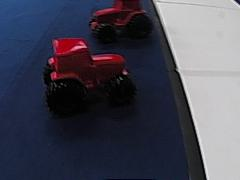Tracktor: (41, 34, 136, 112), (87, 0, 153, 40)
